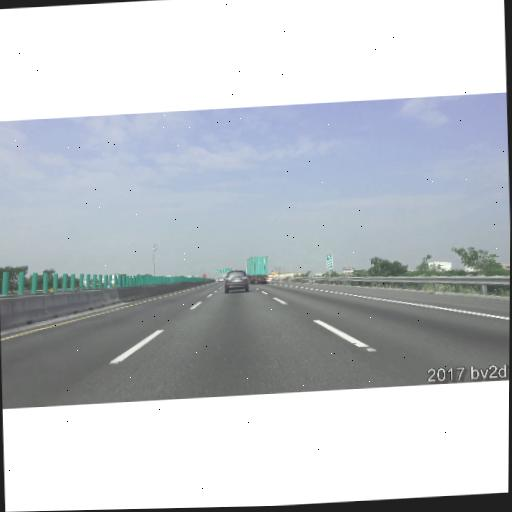Car: (245, 256, 268, 284), (223, 270, 248, 292), (219, 278, 223, 282)
